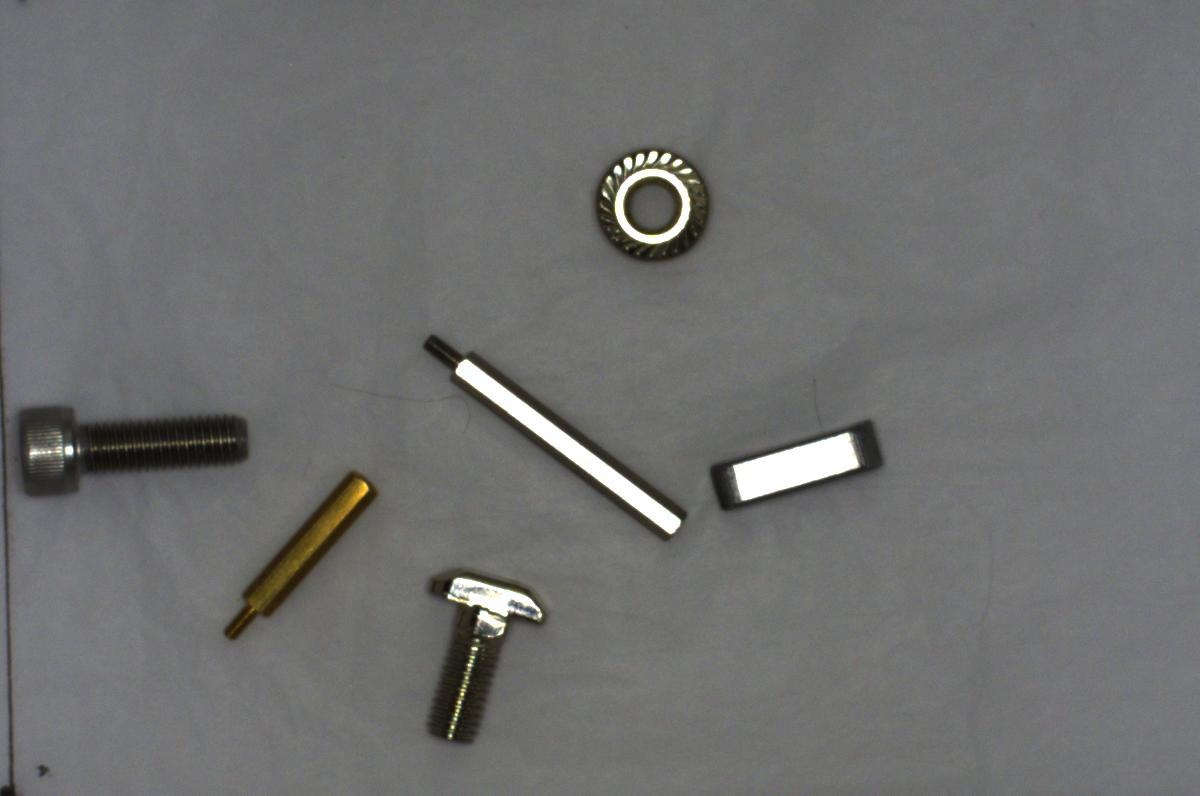Flange nut: (586, 146, 721, 263)
Hexagon pillar: (212, 462, 385, 642)
Hexagon screw: (7, 395, 258, 503)
Hexagonal steel column: (410, 328, 688, 542)
Keybar: (706, 413, 890, 512)
T-shaped screw: (414, 563, 550, 749)
